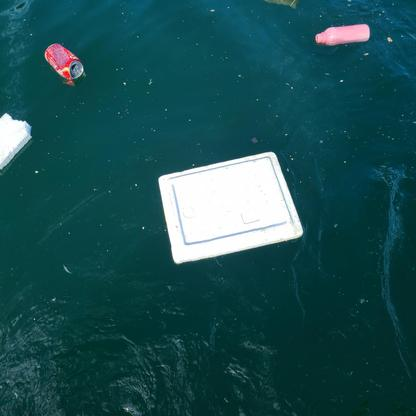can: (45, 43, 84, 80)
foam: (157, 152, 303, 265), (1, 114, 32, 170)
plastic bottle: (314, 23, 370, 45)
